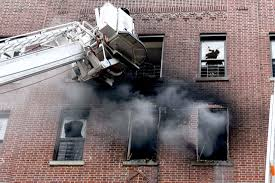smoke: (55, 78, 230, 159)
